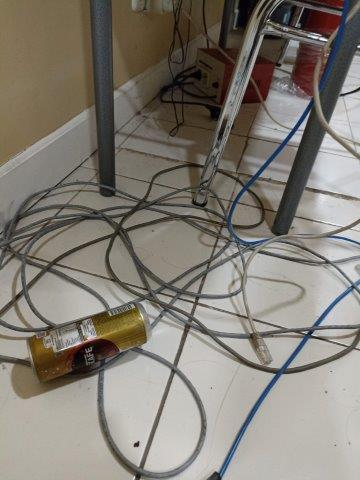kaleng: (27, 301, 153, 383)
